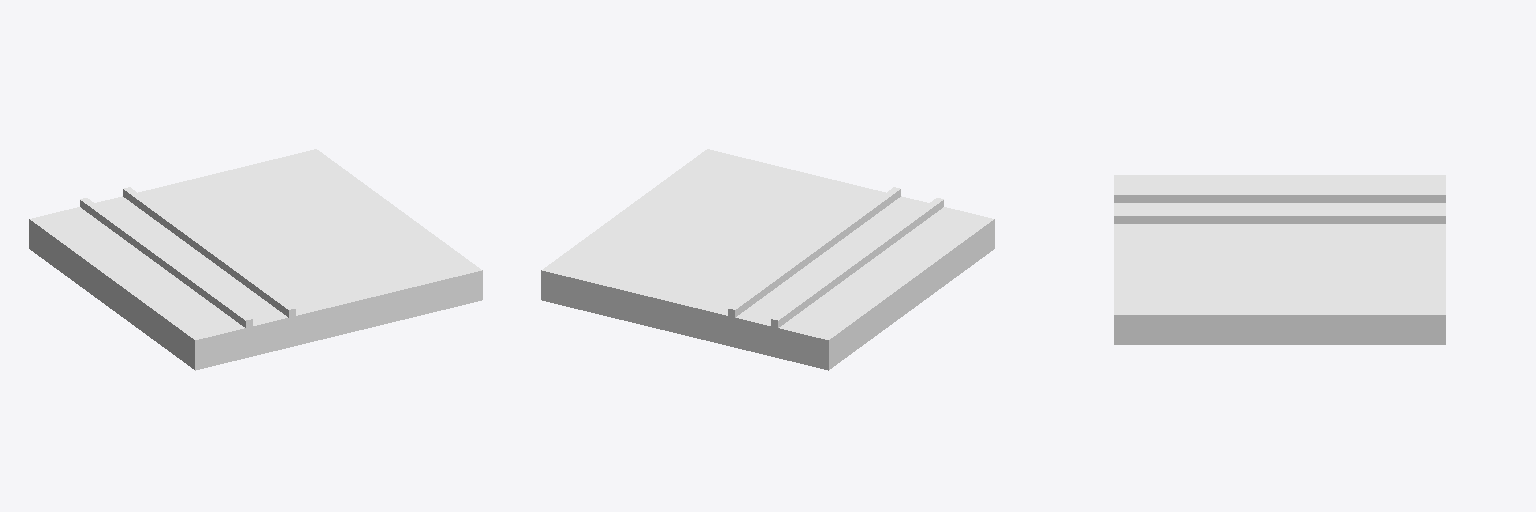
File: Vulcano2.obj
3 views of the same model, side by side, from view 1: azimuth 30°, elevation 25°; view 2: azimuth 150°, elevation 25°; view 3: azimuth 270°, elevation 25° (orthographic).
Parts seen in each view (by area): view 1: object 1; view 2: object 1; view 3: object 1.
Part boxes in pixels (x1,y1,x2,y2): object 1: (29, 149, 482, 370); object 1: (541, 149, 994, 370); object 1: (1114, 175, 1445, 344).
Size of the model in its own units: 4 by 0.5 by 4.